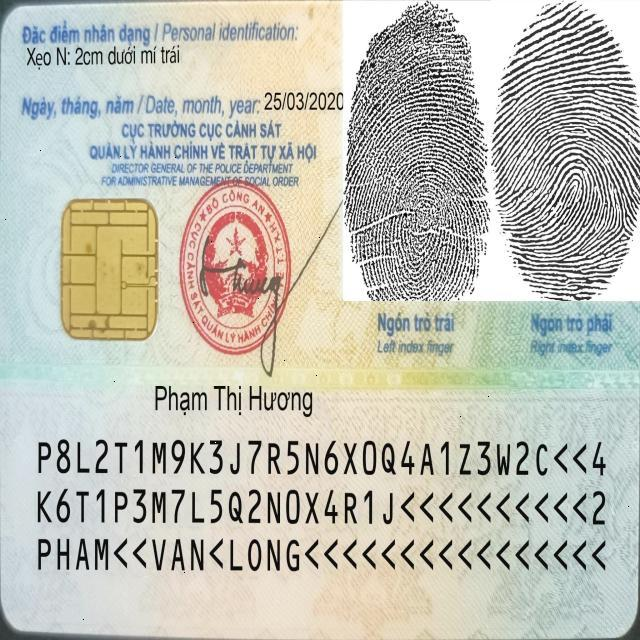features: (25, 42, 183, 70)
finger_print: (491, 5, 640, 357), (343, 3, 490, 358)
issue_date: (262, 87, 345, 116)
